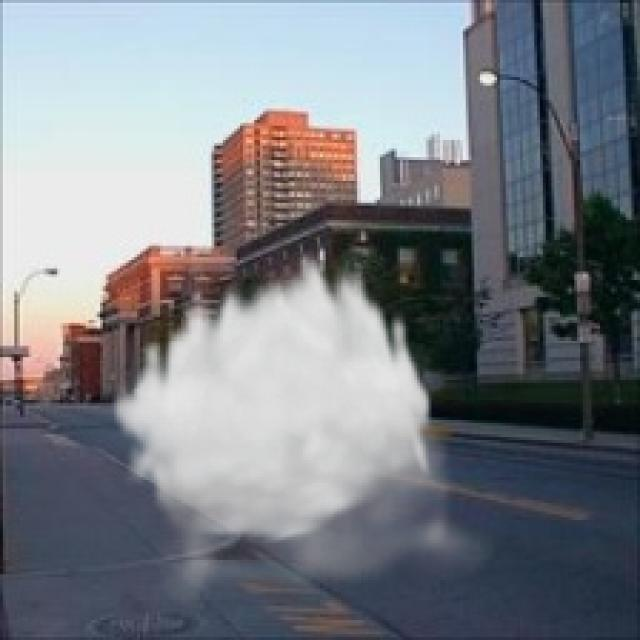Smoke: (108, 246, 503, 614)
